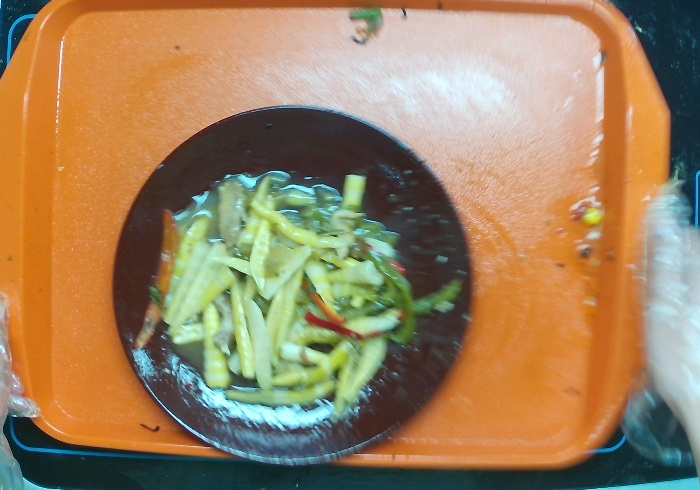HZYJPL-Ka_Fei_Yuan_Pan: (102, 99, 481, 476)
